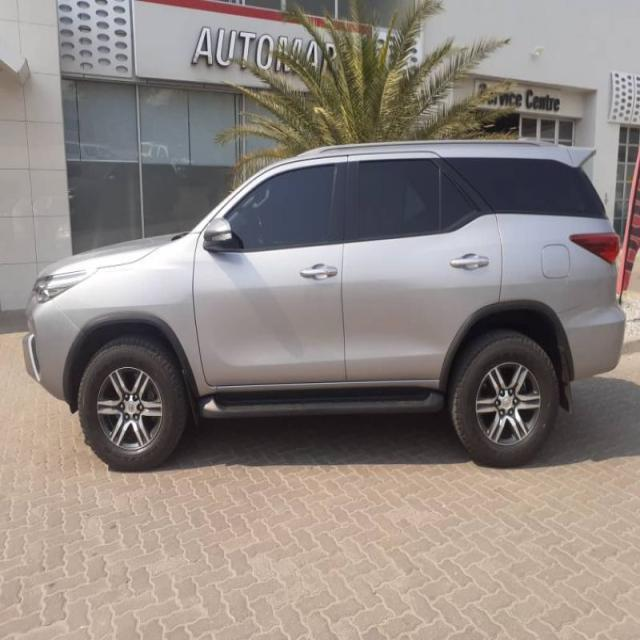light_vehicle: (21, 139, 628, 472)
